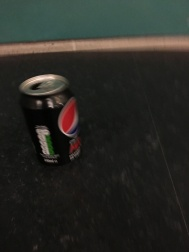can_black: (13, 67, 111, 176)
